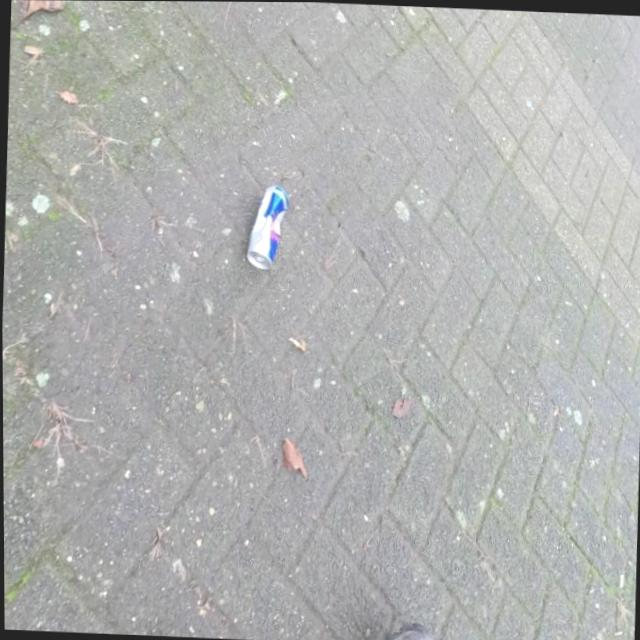Can-Metal: (245, 179, 291, 273)
